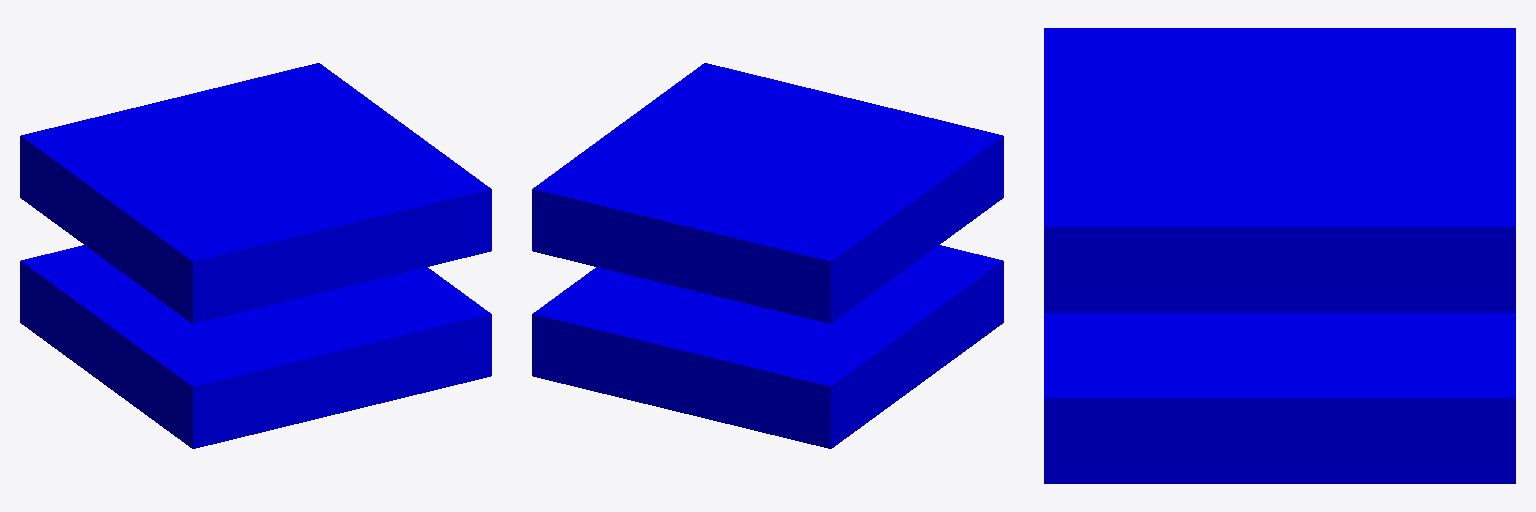
The robot description file, URDF, robot "gripper":
<?xml version="1.0" ?>
<robot name="gripper">
  <link name="baseLink">
    <contact>
      <lateral_friction value="1.0"/>
      <rolling_friction value="0.0"/>
      <contact_cfm value="0.0"/>
      <contact_erp value="1.0"/>
    </contact>
    <inertial>
      <origin rpy="0 0 0" xyz="0 0 0"/>
      <mass value="0.0"/>
      <inertia ixx="0" ixy="0" ixz="0" iyy="0" iyz="0" izz="0"/>
    </inertial>
    <visual>
      <origin rpy="0 0 0" xyz="0 0 0.02"/>
      <geometry>
        <box size="0.1 0.1 0.02"/>
      </geometry>
      <material name="blue">
        <color rgba="0 0 1 1"/>
      </material>
    </visual>
    <visual>
      <origin rpy="0 0 0" xyz="0 0 -0.02"/>
      <geometry>
        <box size="0.1 0.1 0.02"/>
      </geometry>
      <material name="blue">
        <color rgba="0 0 1 1"/>
      </material>
    </visual>
    <collision>
      <origin rpy="0 0 0" xyz="0 0 0.02"/>
      <geometry>
        <box size="0.1 0.1 0.02"/>
      </geometry>
    </collision>
    <collision>
      <origin rpy="0 0 0" xyz="0 0 -0.02"/>
      <geometry>
        <box size="0.1 0.1 0.02"/>
      </geometry>
    </collision>
  </link>
</robot>

--- Facts derived from the render (not from the file) ---
The picture shows the robot from 3 angles, left to right: view 1: azimuth 30°, elevation 25°; view 2: azimuth 150°, elevation 25°; view 3: azimuth 270°, elevation 25°; orthographic projection.
Robot: gripper — 1 links, 0 joints (none); root link baseLink; default pose: all joints at 0.
Links seen in each view (by area): view 1: baseLink; view 2: baseLink; view 3: baseLink.
Link boxes in pixels (x1=…): baseLink: x1=20, y1=63, x2=491, y2=448; baseLink: x1=532, y1=63, x2=1003, y2=448; baseLink: x1=1044, y1=28, x2=1515, y2=483.
Bounding box of the posed robot: 0.1 × 0.1 × 0.06 m (x, y, z).
Geometry: primitives only (box / cylinder / sphere), no mesh files.